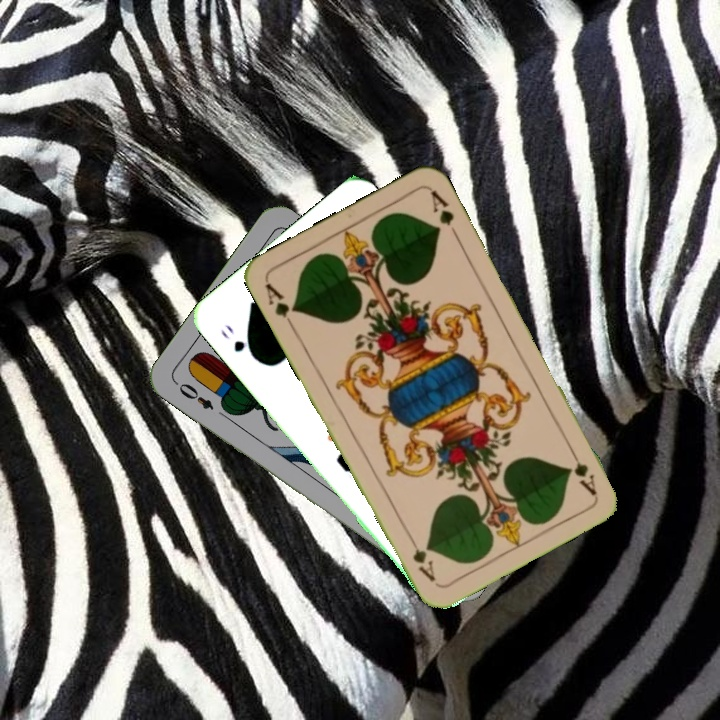EO: (174, 378, 217, 413)
GA: (260, 278, 300, 333), (565, 442, 600, 498)
GO: (216, 320, 260, 363)
